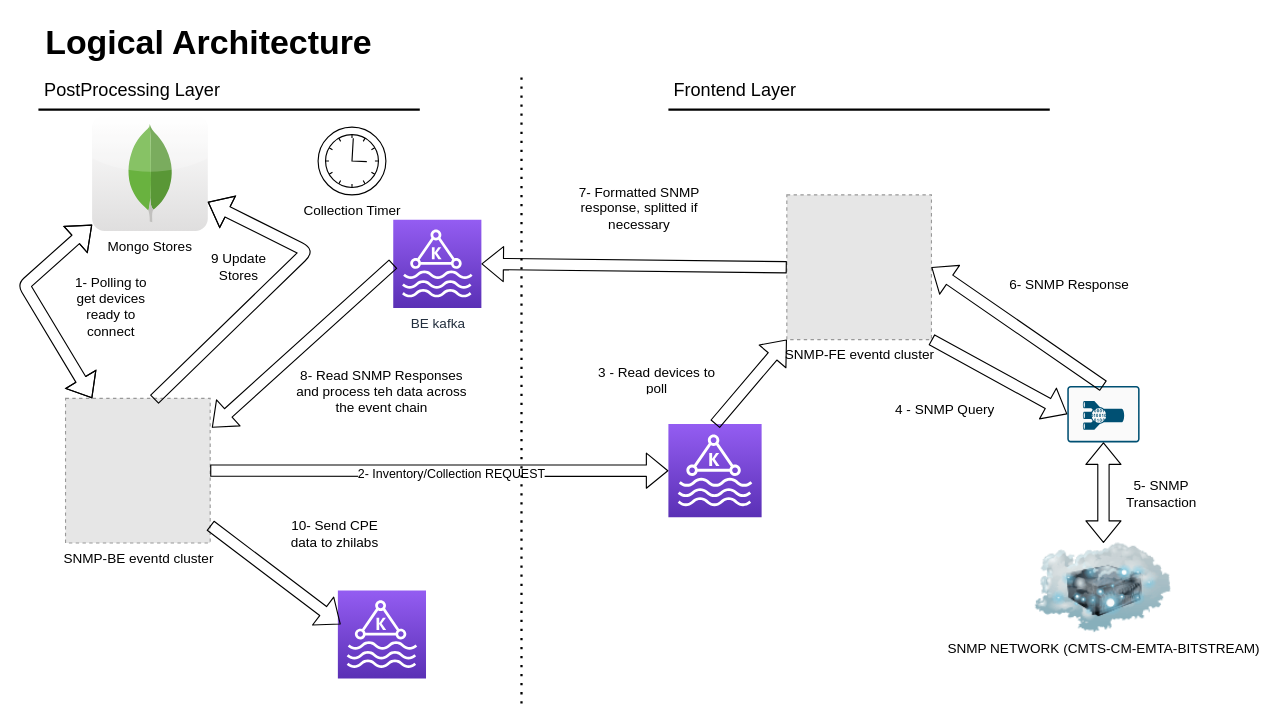
Image size: 1279x725. Some labels were removed from this diagram. Grey dashed boxes stand in for pictures. Here are the shapes that lost their labels. From the top down, the box of each, then its label:
(1066, 385, 1140, 442): SNMP-Connector
(667, 423, 762, 517): FE Kafka
(337, 589, 426, 679): Kafka2Zhilabs
